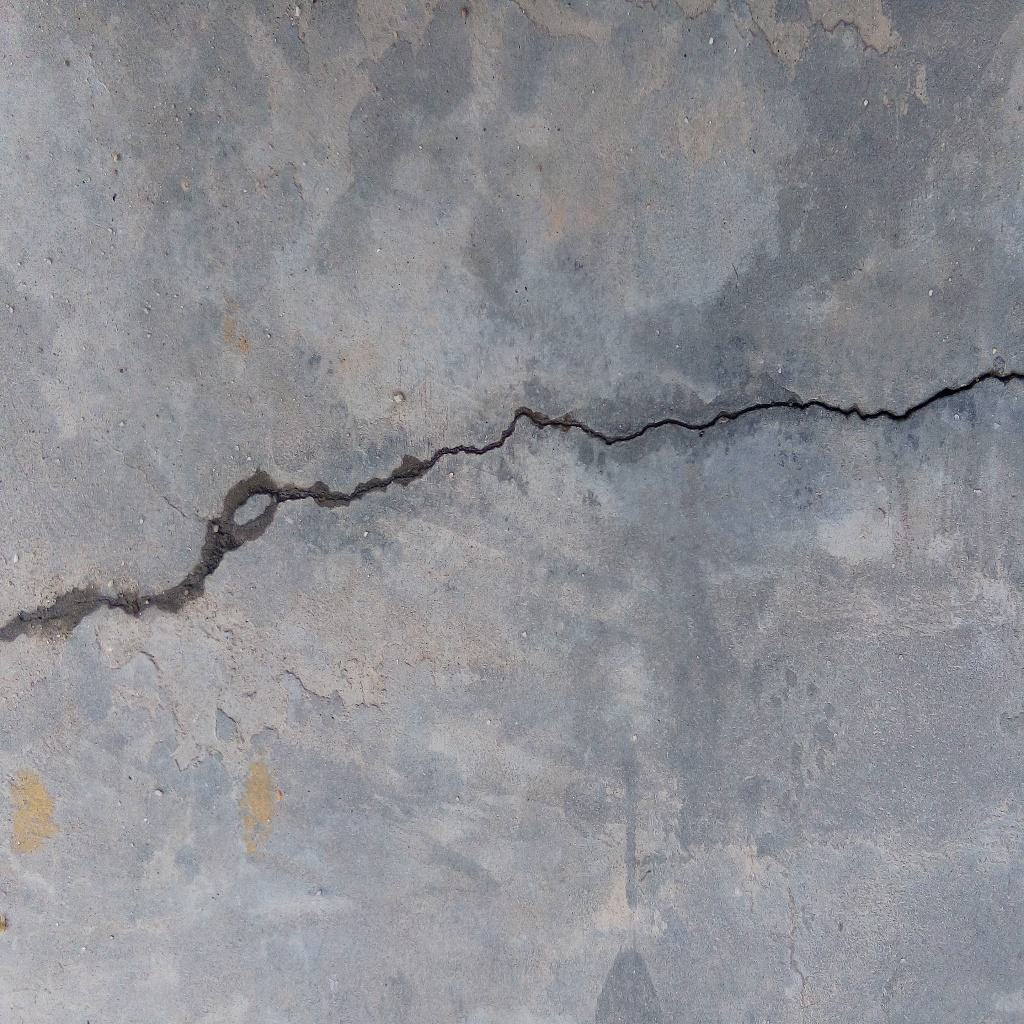Crack: (1, 370, 1024, 637)
